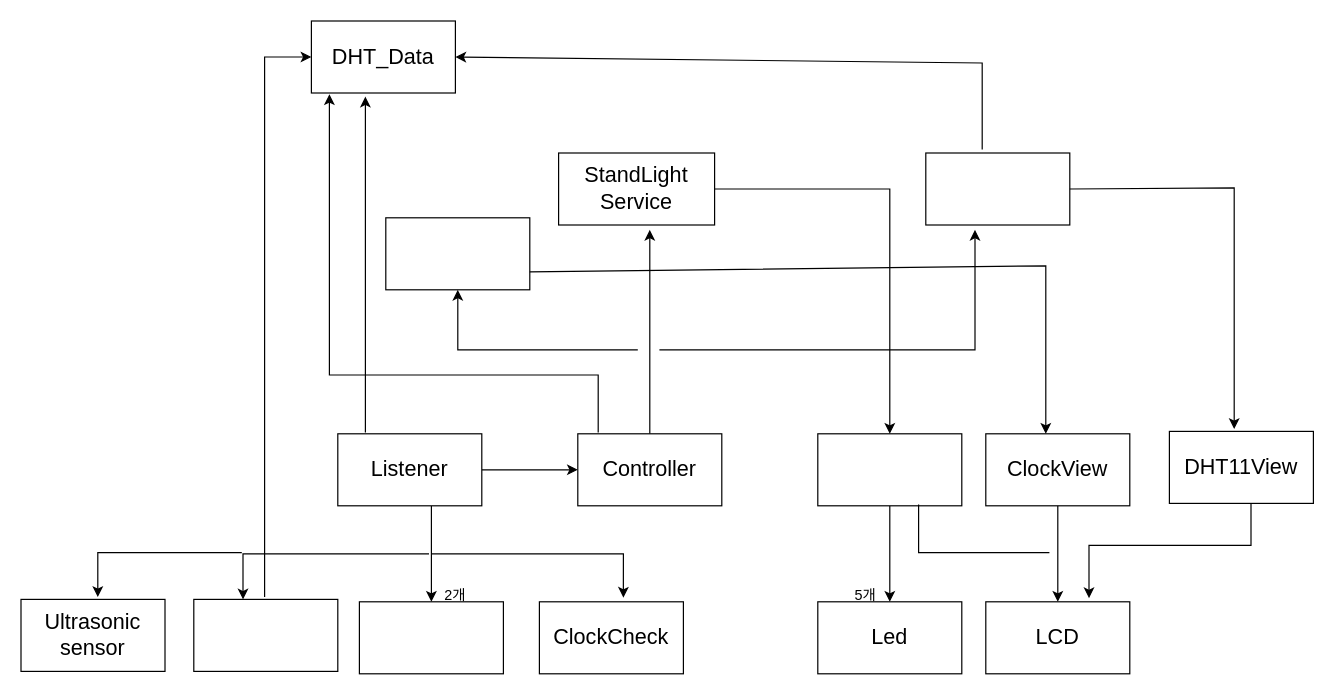
This 1334x695 diagram has some shape labels left out. The shapes that lost their labels are listed below. From the top down, each one's centre as x and y in pixels, then its label:
At (997,188): "DHT11Service".
At (457,253): "ClockService".
At (889,469): "LightView".
At (265,634): "DHT11".
At (430,637): "Button".
